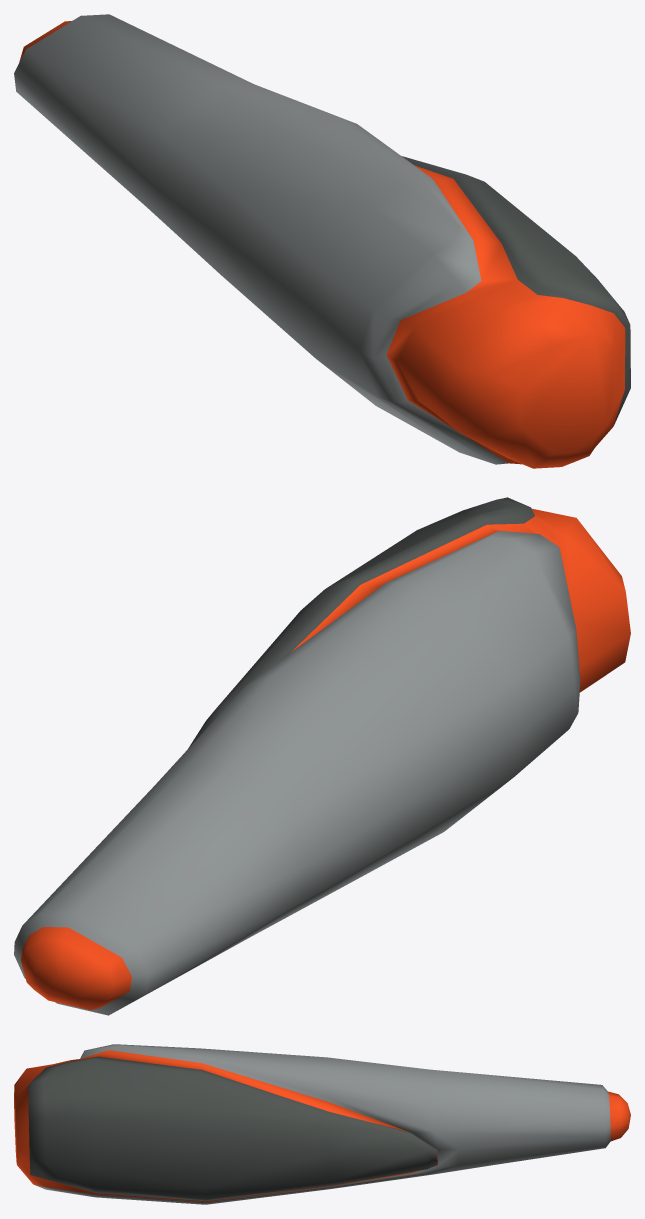
Rendered from xsens_LeftForeArm.dae.
3 renders of one model, top to bottom at view 1: azimuth 30°, elevation 25°; view 2: azimuth 150°, elevation 25°; view 3: azimuth 270°, elevation 25°, orthographic. The views are drawn at different scales.
Parts seen in each view (by area): view 1: LeftForeArm; view 2: LeftForeArm; view 3: LeftForeArm.
Part boxes in pixels (x1,y1,x2,y2): LeftForeArm: (14,14,630,468); LeftForeArm: (14,497,630,1015); LeftForeArm: (14,1044,630,1204).
Bounding box in the file's own units: 0.0668 × 0.2555 × 0.0636.
